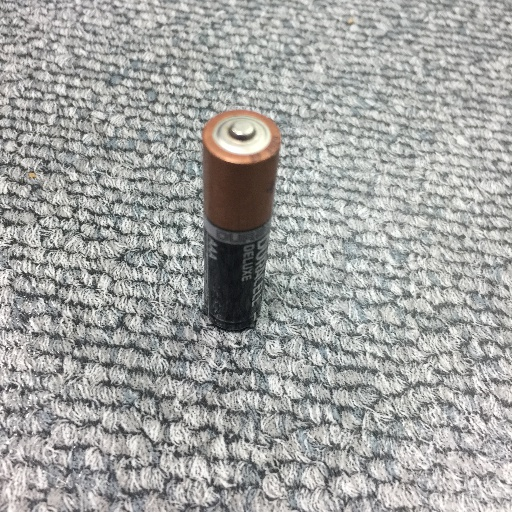Battery_0: (188, 104, 290, 343)
